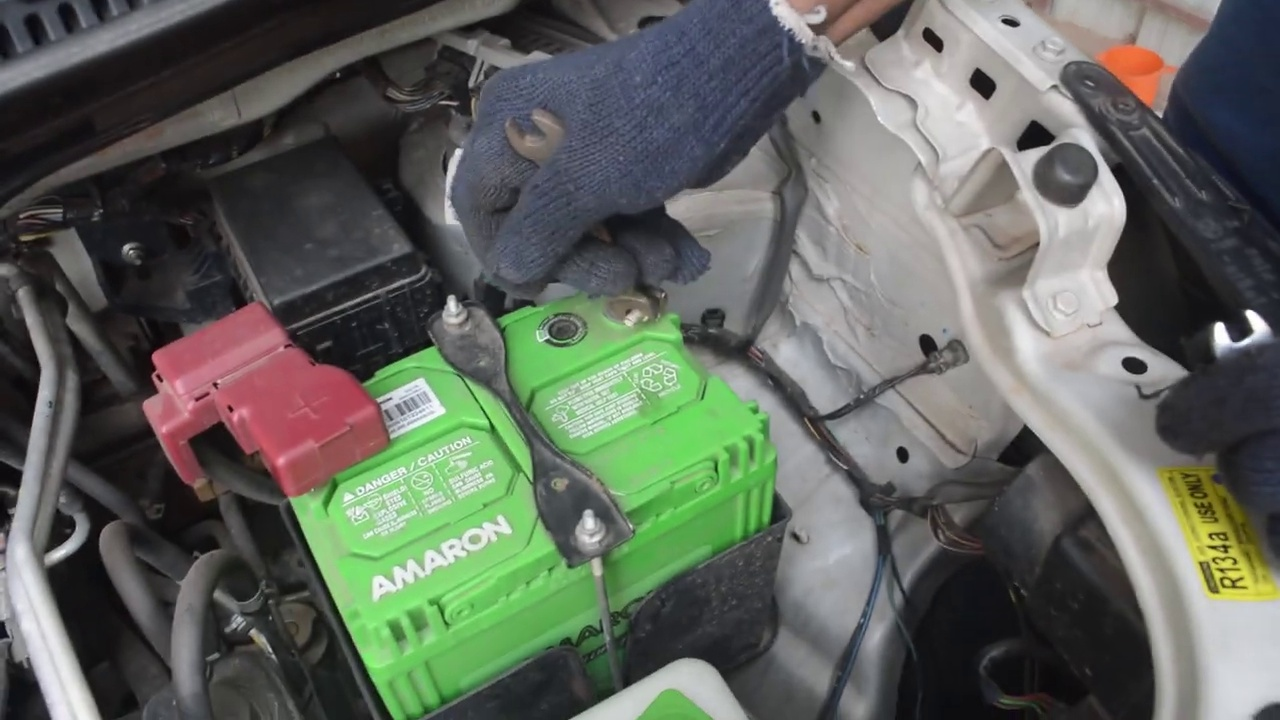battery: (242, 265, 769, 688)
neg_touched: (554, 212, 681, 341)
pos_connected: (171, 309, 396, 488)
